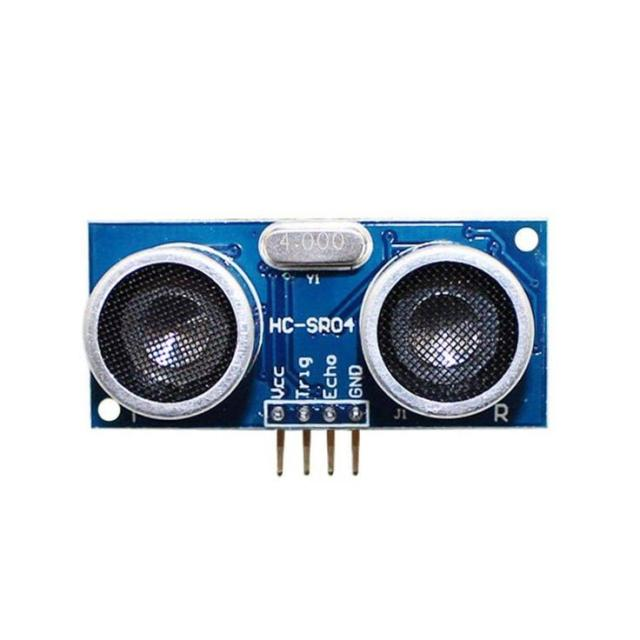Ultrasonic Sensor: (79, 209, 556, 487)
